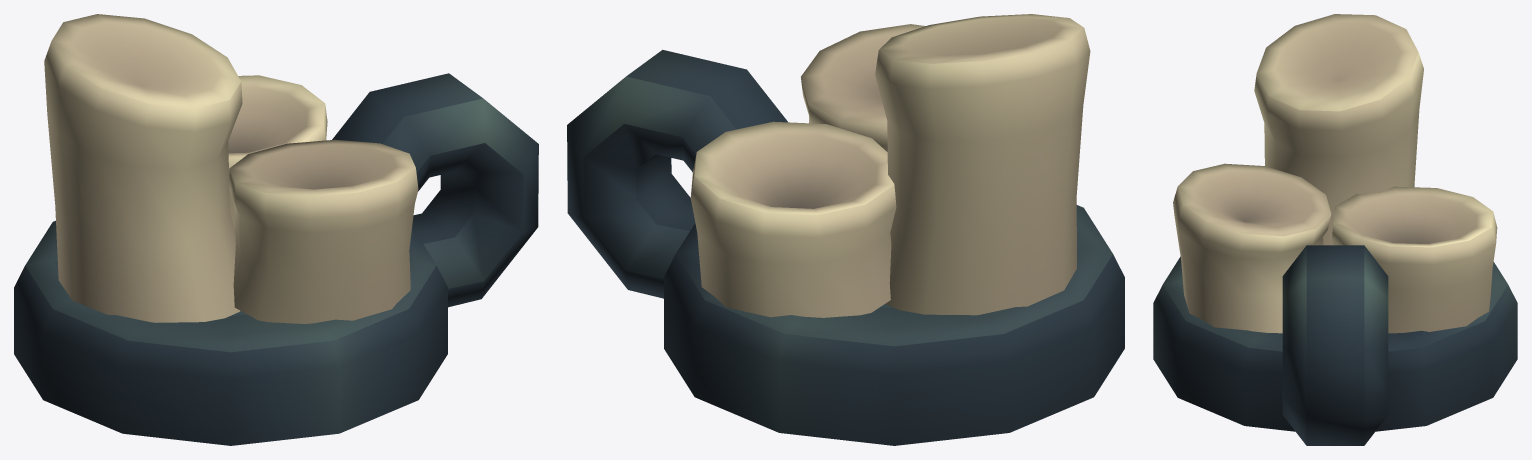
File: Candles.fbx
3 views of the same model, side by side, from view 1: azimuth 30°, elevation 25°; view 2: azimuth 150°, elevation 25°; view 3: azimuth 270°, elevation 25° (orthographic). The views are drawn at different scales.
Visible parts, largest first — view 1: Candles_LOD0; view 2: Candles_LOD0; view 3: Candles_LOD0.
Part boxes in pixels (box(x1,y1,x2,y2)): Candles_LOD0: box(14, 14, 538, 445); Candles_LOD0: box(567, 14, 1124, 445); Candles_LOD0: box(1153, 14, 1517, 445).
Size of what is drawn, in the model's own units: 0.59 by 0.3933 by 0.4631.
